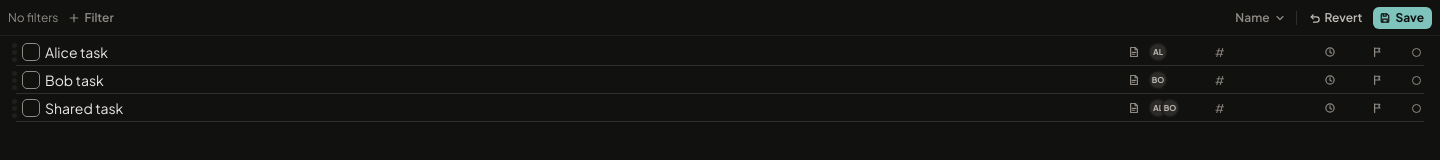
Test: ListWidget › Save on the filter line writes the draft; the line stays, without Revert · Save
The width and height of the screenshot is (1440, 160).
Step 1. Click the button with test id "save-list" → (1403, 18), box [1373,6,1432,28]
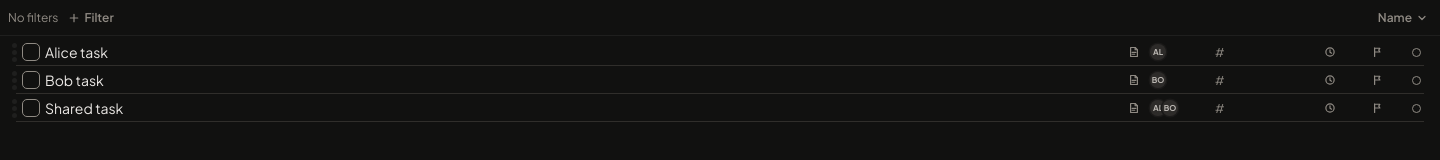
Check: the element with test id "list-filter-row" is shown, box [0,0,1439,36]
Check: the button with test id "save-list" is gone
